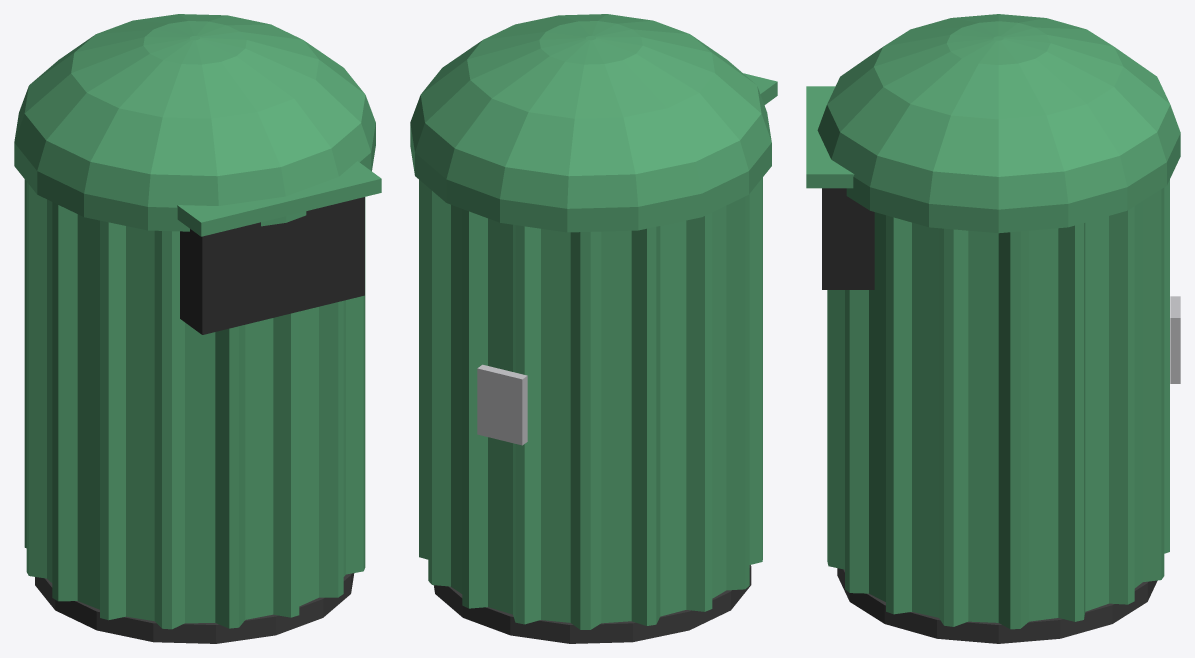
File: trashcan_sf.glb
3 renders of one model, left to right at view 1: azimuth 30°, elevation 25°; view 2: azimuth 150°, elevation 25°; view 3: azimuth 270°, elevation 25°, orthographic.
Visible parts, largest first — view 1: trashcan_sf; view 2: trashcan_sf; view 3: trashcan_sf.
Boxes of the visible parts, left/top/right/bottom form: trashcan_sf: left=14, top=14, right=381, bottom=643; trashcan_sf: left=410, top=14, right=777, bottom=643; trashcan_sf: left=806, top=14, right=1180, bottom=643.
Bounding box in the file's own units: 0.7 × 1.14 × 0.72.
